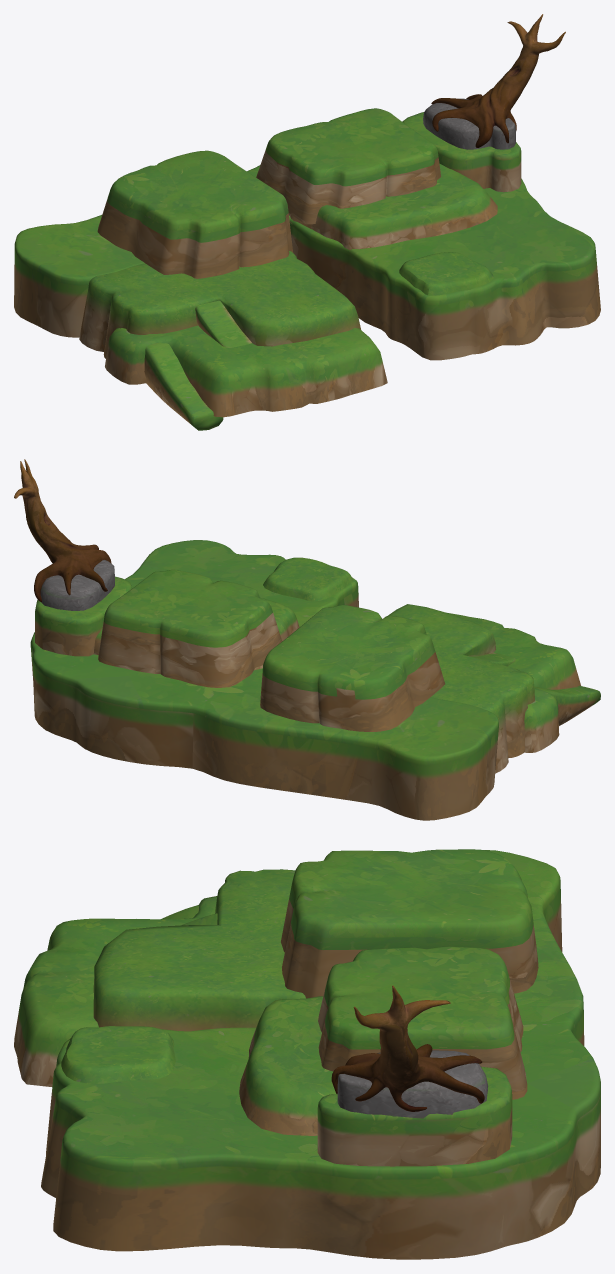
Rendered from MAP.fbx.
3 renders of one model, top to bottom at view 1: azimuth 30°, elevation 25°; view 2: azimuth 150°, elevation 25°; view 3: azimuth 270°, elevation 25°, orthographic. The views are drawn at different scales.
Parts seen in each view (by area): view 1: Vert.005, Vert.004, Vert.003, Vert.001, Vert.009, Vert.008, Tree_Low, Vert.010, Plane.003, Vert.007, Vert.011, Plane.001; view 2: Vert.005, Vert.004, Vert.009, Vert.003, Vert.001, Tree_Low, Vert.010, Vert.007, Vert.011, Plane.003, Vert.008; view 3: Vert.005, Vert.004, Vert.003, Vert.009, Vert.010, Vert.001, Vert.008, Tree_Low, Vert.007, Vert.011.
Part boxes in pixels (<box>): Vert.005: <box>14,165,600,360</box>; Vert.004: <box>97,150,293,278</box>; Vert.003: <box>79,251,360,358</box>; Vert.001: <box>105,325,387,417</box>; Vert.009: <box>256,108,440,224</box>; Vert.008: <box>288,163,497,249</box>; Tree_Low: <box>431,14,565,147</box>; Vert.010: <box>402,112,521,192</box>; Plane.003: <box>144,342,223,430</box>; Vert.007: <box>399,252,493,295</box>; Vert.011: <box>423,98,515,149</box>; Plane.001: <box>195,300,251,347</box>; Vert.005: <box>30,540,498,820</box>; Vert.004: <box>260,604,445,731</box>; Vert.009: <box>98,569,282,687</box>; Vert.003: <box>388,604,534,773</box>; Vert.001: <box>448,613,580,752</box>; Tree_Low: <box>14,459,111,601</box>; Vert.010: <box>35,576,131,656</box>; Vert.007: <box>263,557,353,601</box>; Vert.011: <box>40,560,114,610</box>; Plane.003: <box>534,685,600,725</box>; Vert.008: <box>93,597,299,670</box>; Vert.005: <box>41,849,600,1259</box>; Vert.004: <box>281,849,538,998</box>; Vert.003: <box>93,869,305,1031</box>; Vert.009: <box>318,946,527,1099</box>; Vert.010: <box>317,1066,512,1252</box>; Vert.001: <box>14,896,217,1086</box>; Vert.008: <box>239,996,336,1135</box>; Tree_Low: <box>331,985,484,1111</box>; Vert.007: <box>61,1026,175,1083</box>; Vert.011: <box>337,1050,488,1118</box>.
Size of the model in its own units: 12975 by 5421 by 9162.
9 materials, 9 textured.
